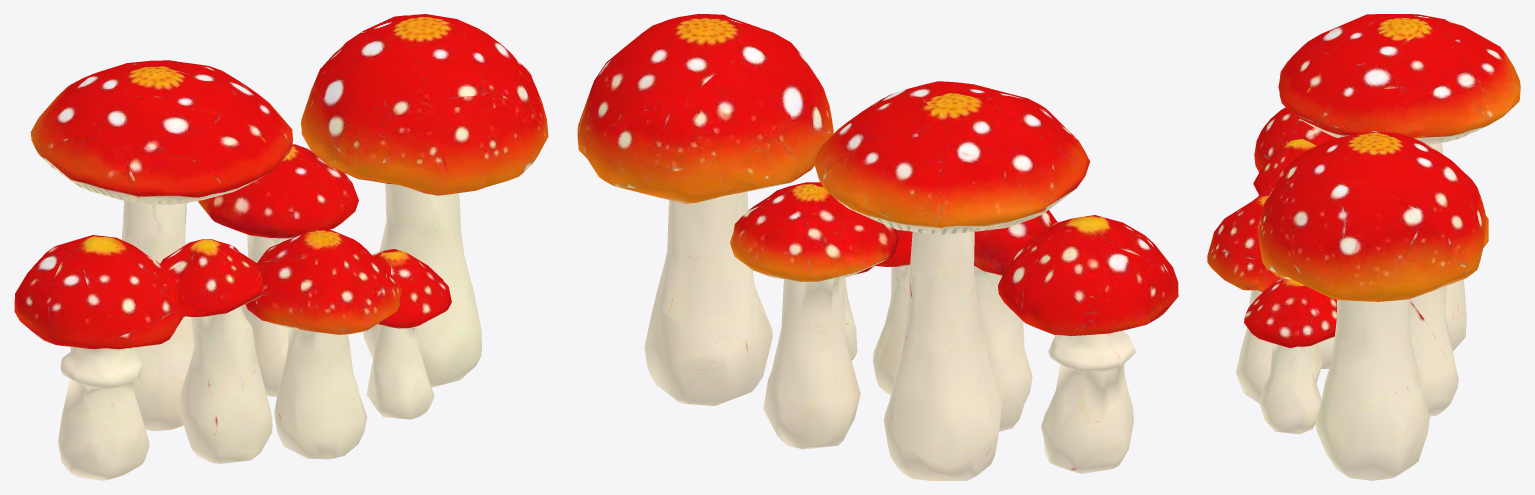
Rendered from mushroom_cluster.glb.
3 views of the same model, side by side, from view 1: azimuth 30°, elevation 25°; view 2: azimuth 150°, elevation 25°; view 3: azimuth 270°, elevation 25° (orthographic). The views are drawn at different scales.
Visible parts, largest first — view 1: 0; view 2: 0; view 3: 0.
Part boxes in pixels (x1,y1,x2,y2): 0: (14, 14, 548, 480); 0: (577, 14, 1178, 480); 0: (1207, 14, 1520, 480).
Size of the model in its own units: 1.9 by 1.24 by 1.07.
Materials: 1 (1 with a texture image).
